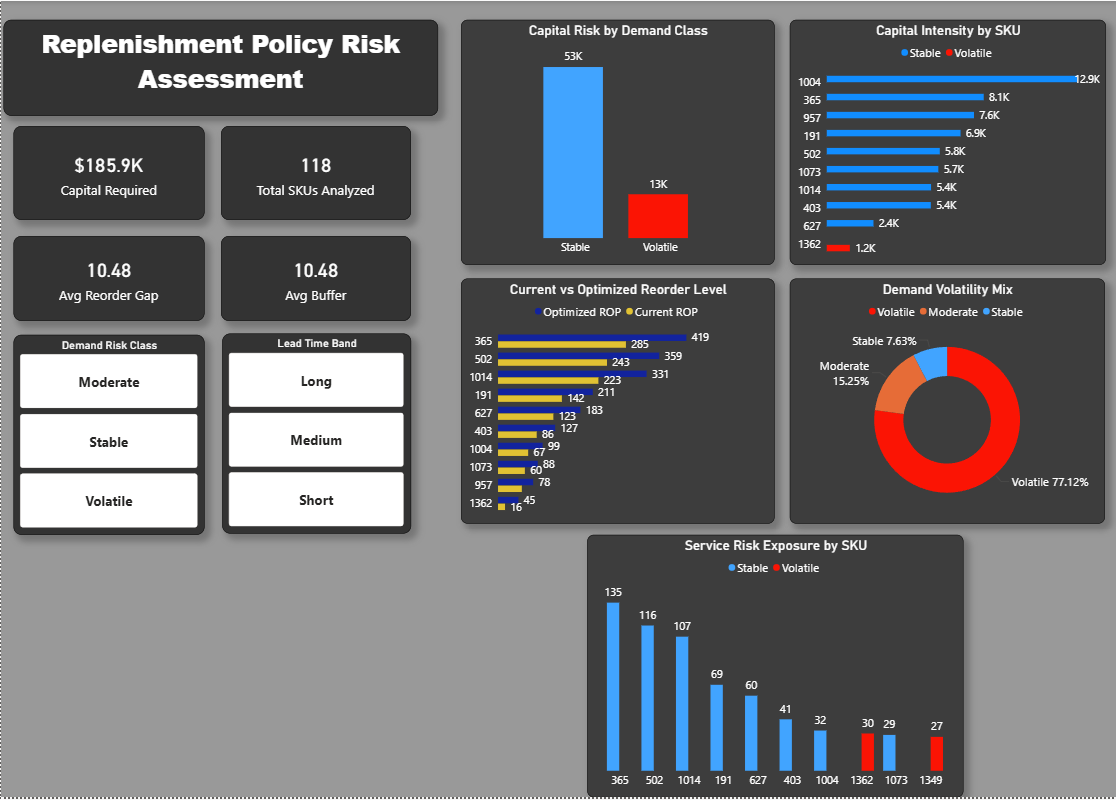

Layout of this report page (visuals, bound fields, positions):
{"tool":"powerbi","page":{"name":"Replenishment Policy Risk Assessment","canvas":[1680,1200],"ordinal":0},"visuals":[{"type":"card","fields":{"Values":["public inventory_policy_master_bi.Capital_Required"]},"box":[18.8,188.4,288.3,141.3],"z":4000},{"type":"textbox","box":[4.4,28.6,655.2,145.1],"z":8000},{"type":"card","fields":{"Values":["public inventory_policy_master_bi.Avg_Buffer"]},"box":[331.7,354.3,286.4,128.1],"z":8001},{"type":"card","fields":{"Values":["public inventory_policy_master_bi.Avg_Reorder_Gap"]},"box":[18.8,354.3,288.3,128.1],"z":8002},{"type":"card","fields":{"Values":["public inventory_policy_master_bi.Total_SKUs"]},"box":[331.7,188.4,286.4,141.3],"z":8003},{"type":"clusteredColumnChart","title":"Service Risk Exposure by SKU","fields":{"Category":["public inventory_policy_master_bi.product_card_id"],"Y":["Sum(public inventory_policy_master_bi.buffer_gap)"],"Series":["public inventory_policy_master_bi.demand_risk_class"]},"box":[883.8,804.7,567.2,395.7],"z":8004},{"type":"clusteredBarChart","title":"Current vs Optimized Reorder Level","fields":{"Category":["public inventory_policy_master_bi.product_card_id"],"Y":["Sum(public inventory_policy_master_bi.reorder_point)","Sum(public inventory_policy_master_bi.current_rop)"]},"box":[693.5,418.3,473,369.3],"z":8005},{"type":"donutChart","title":"Demand Volatility Mix","fields":{"Category":["public inventory_policy_master_bi.demand_risk_class"],"Y":["CountNonNull(public inventory_policy_master_bi.product_card_id)"]},"box":[1189.1,418.3,474.9,369.3],"z":8006},{"type":"clusteredColumnChart","title":"Capital Risk by Demand Class","fields":{"Category":["public inventory_policy_master_bi.demand_risk_class"],"Y":["Sum(public inventory_policy_master_bi.additional_inventory_value)"]},"box":[693.5,28.3,473,369.3],"z":8007},{"type":"clusteredBarChart","title":"Capital Intensity by SKU","fields":{"Category":["public inventory_policy_master_bi.product_card_id"],"Y":["Sum(public inventory_policy_master_bi.additional_inventory_value)"],"Series":["public inventory_policy_master_bi.demand_risk_class"]},"box":[1189.1,28.3,476.8,369.3],"z":8008},{"type":"advancedSlicerVisual","fields":{"Values":["public inventory_policy_master_bi.demand_risk_class"]},"box":[18.8,503.1,288.3,301.5],"z":8009},{"type":"advancedSlicerVisual","fields":{"Values":["public inventory_policy_master_bi.Lead Time Band"]},"box":[333.5,501.3,284.5,301.5],"z":8010}]}

Visuals, with their boxes in screenshot pixels (x1, y1, x2, y2), scaled from the page's 1680x1200 canvas onto the 1116x800 screenshot:
card - public inventory_policy_master_bi.Capital_Required: <region>12, 126, 204, 220</region>
textbox: <region>3, 19, 438, 116</region>
card - public inventory_policy_master_bi.Avg_Buffer: <region>220, 236, 411, 322</region>
card - public inventory_policy_master_bi.Avg_Reorder_Gap: <region>12, 236, 204, 322</region>
card - public inventory_policy_master_bi.Total_SKUs: <region>220, 126, 411, 220</region>
"Service Risk Exposure by SKU" clusteredColumnChart: <region>587, 536, 964, 799</region>
"Current vs Optimized Reorder Level" clusteredBarChart: <region>461, 279, 775, 525</region>
"Demand Volatility Mix" donutChart: <region>790, 279, 1105, 525</region>
"Capital Risk by Demand Class" clusteredColumnChart: <region>461, 19, 775, 265</region>
"Capital Intensity by SKU" clusteredBarChart: <region>790, 19, 1107, 265</region>
advancedSlicerVisual - public inventory_policy_master_bi.demand_risk_class: <region>12, 335, 204, 536</region>
advancedSlicerVisual - public inventory_policy_master_bi.Lead Time Band: <region>222, 334, 411, 535</region>
